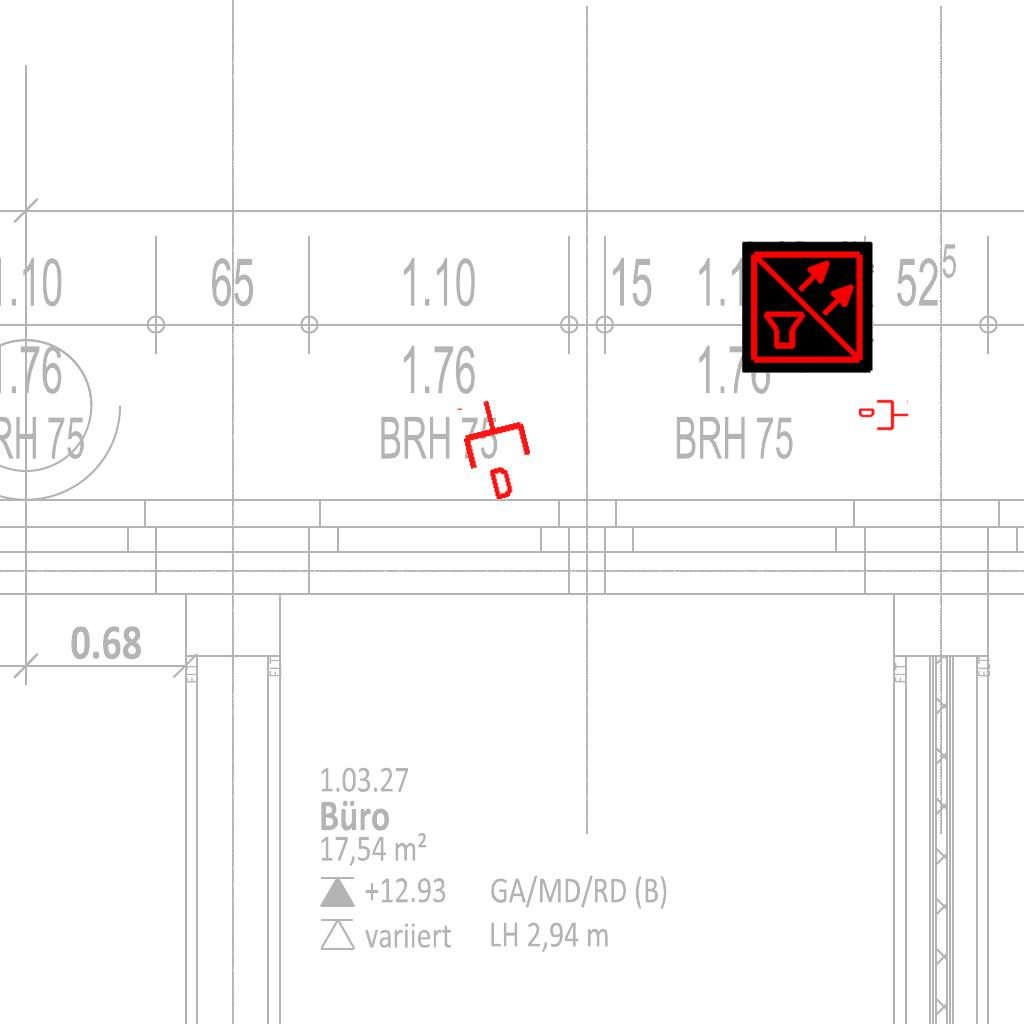Datenanschluss_einfach: (451, 391, 544, 505), (859, 398, 909, 432)
OKW_Multisensormelder_(Kombination_optischer_Rauch-Kahlenmonoxid_Waerme-Melder): (742, 241, 874, 373)
